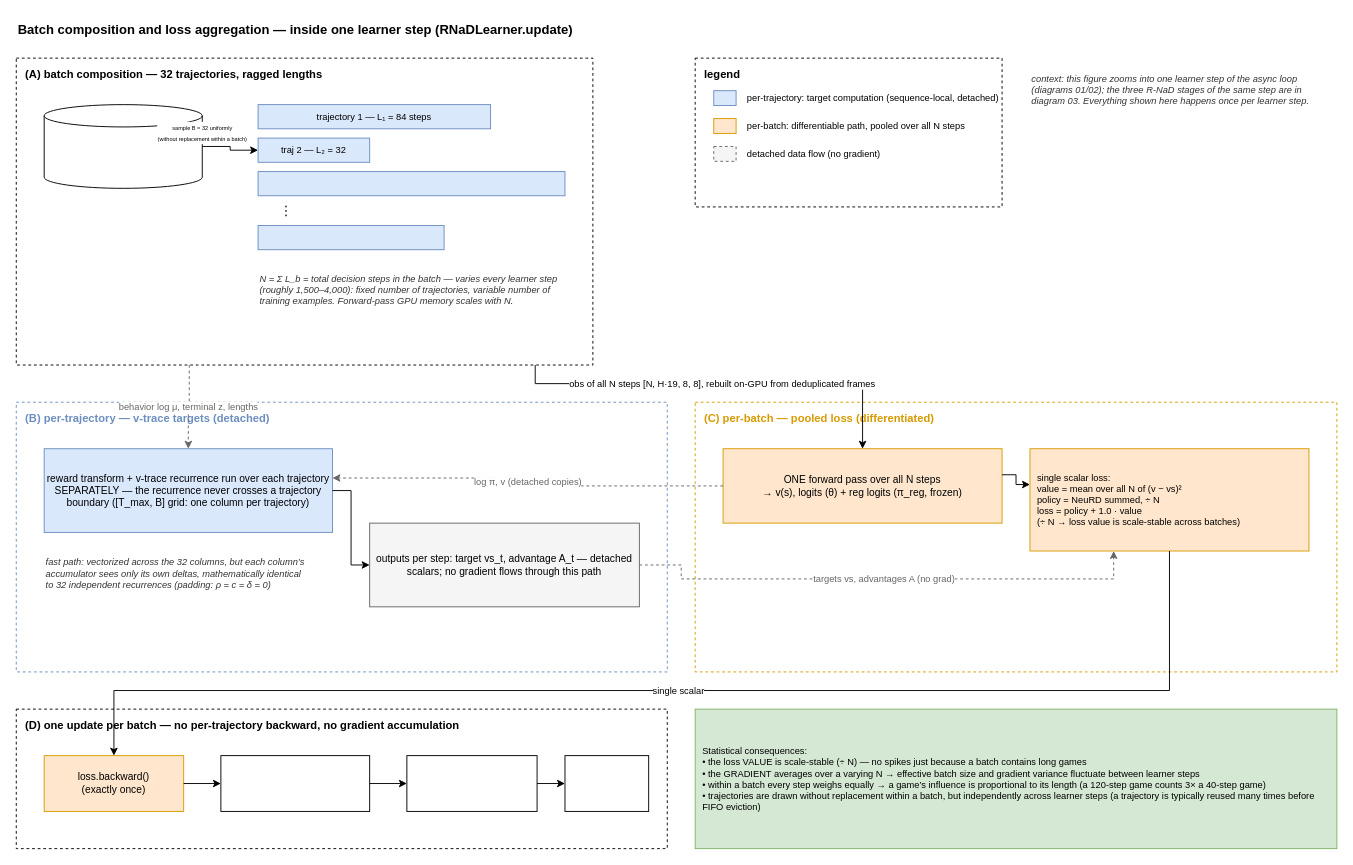
Image size: 1353x865. Some labels were removed from this diagram. Here are the shapes that lost their labels. From the top down, the box of each, then its label:
(43, 104, 202, 188): replay buffer (4096 trajectories)
(257, 171, 565, 196): trajectory 3 — L₃ = 118 steps
(257, 225, 444, 250): trajectory 32 — L₃₂ = 66
(220, 755, 370, 811): grad-norm clip = 10
(406, 755, 537, 811): Adam step (lr 5·10⁻⁵)
(564, 755, 649, 811): steps += 1
